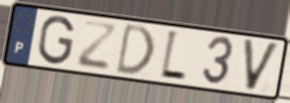3: (199, 35, 235, 89)
D: (113, 21, 156, 76)
G: (36, 14, 77, 67)
L: (158, 28, 189, 85)
V: (241, 37, 283, 94)
Z: (74, 18, 119, 73)
